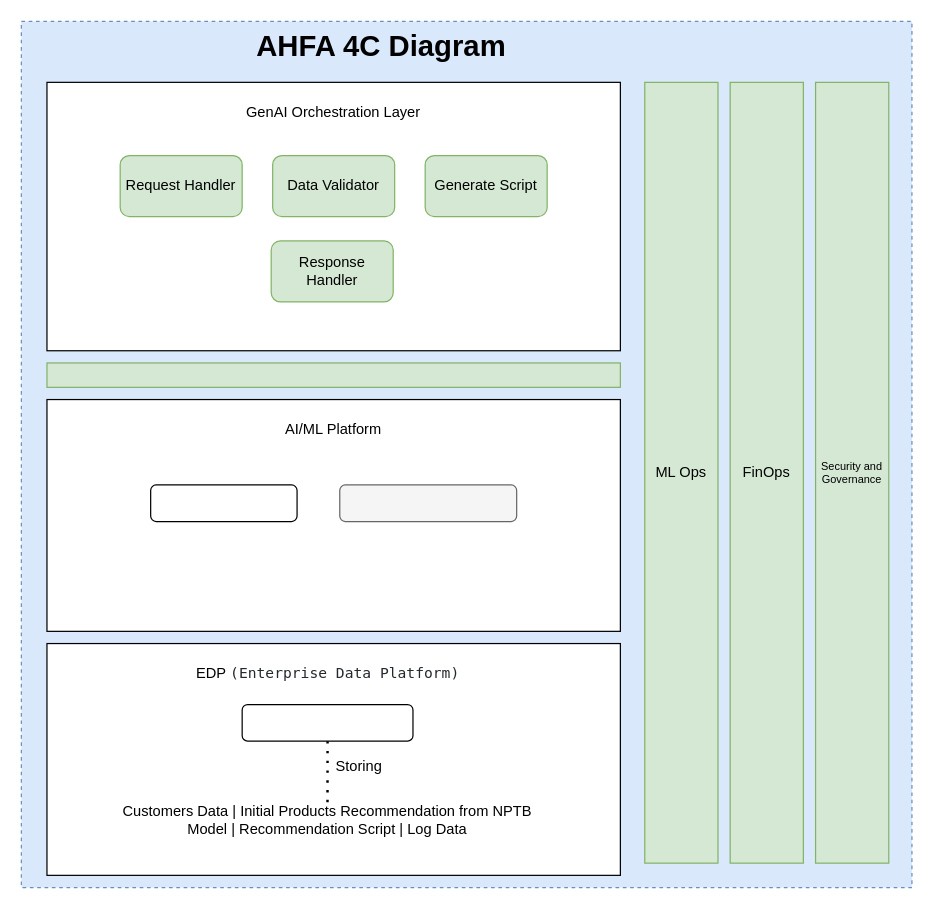
Some shapes in this 933 by 909 pixel diagram are drawn without their labels. The shapes that lost their labels are listed below. From the top down, each one's centre as x and y in pixels, then its label:
At [333,374]: "AI/ML Gateway (AI/ML) Switching Only)".
At [223,503]: "Gemini Pro".
At [428,503]: "Model NPTB".
At [327,722]: "LakeHouse (BigLake)".
